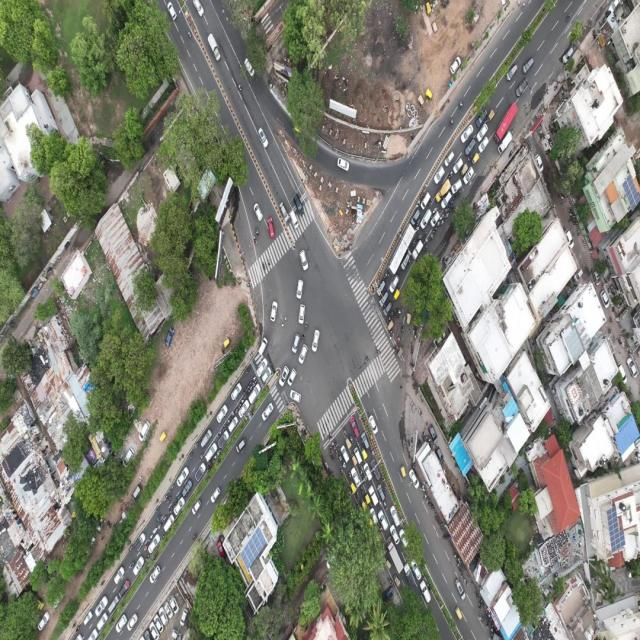3W: (455, 602, 464, 620), (400, 462, 407, 481), (158, 431, 168, 444), (416, 92, 424, 107), (222, 337, 231, 349), (383, 315, 391, 328), (348, 479, 355, 493), (424, 88, 432, 100), (392, 290, 400, 302), (486, 109, 494, 121), (460, 162, 467, 175), (359, 497, 365, 511), (349, 453, 356, 465), (363, 490, 369, 503), (360, 446, 366, 459), (344, 434, 349, 448), (471, 152, 478, 162)
Bus: (385, 221, 411, 271), (494, 101, 520, 141)
Cars: (419, 574, 433, 602), (454, 578, 470, 600), (136, 421, 150, 444), (515, 78, 530, 98), (173, 496, 186, 519), (337, 153, 350, 175), (149, 565, 162, 587), (498, 131, 511, 153), (278, 365, 290, 388), (183, 481, 196, 502), (124, 449, 137, 470), (150, 536, 163, 556), (310, 329, 321, 352), (109, 576, 121, 597), (164, 515, 176, 536), (448, 53, 460, 74), (459, 124, 473, 142), (261, 402, 274, 421), (266, 214, 277, 236), (257, 127, 268, 149), (193, 465, 205, 485), (133, 557, 145, 577), (432, 164, 444, 184), (418, 189, 430, 209), (230, 382, 242, 402), (408, 470, 420, 490), (410, 238, 422, 258), (216, 403, 228, 423), (504, 64, 516, 84), (522, 54, 534, 74), (439, 190, 452, 208), (410, 558, 421, 579), (348, 413, 358, 436), (294, 192, 304, 215), (177, 467, 189, 486), (205, 444, 217, 463), (248, 386, 260, 405), (388, 273, 400, 292), (91, 603, 103, 622), (462, 165, 474, 184), (164, 327, 174, 349), (119, 580, 130, 600), (388, 501, 398, 523), (369, 457, 379, 479), (279, 202, 289, 224), (260, 334, 270, 356), (107, 598, 119, 616), (134, 532, 146, 550), (240, 403, 252, 421), (476, 136, 488, 154), (115, 614, 127, 632), (349, 464, 359, 485), (400, 249, 410, 270), (245, 56, 255, 77), (132, 485, 143, 504), (409, 206, 420, 225), (257, 358, 268, 377), (560, 45, 572, 62), (421, 210, 431, 230), (298, 345, 308, 365), (192, 497, 202, 517), (127, 614, 138, 632), (475, 124, 487, 140), (290, 334, 300, 353), (297, 303, 306, 324), (300, 249, 309, 270), (270, 301, 279, 321), (95, 616, 105, 634), (377, 507, 386, 527), (202, 429, 212, 447), (212, 486, 222, 504), (236, 438, 246, 456), (288, 366, 297, 386), (443, 151, 454, 167), (254, 200, 262, 222), (290, 388, 301, 404), (464, 138, 475, 154), (338, 443, 347, 462), (219, 434, 230, 449), (451, 180, 462, 195), (376, 483, 385, 501), (362, 460, 371, 478), (296, 278, 304, 298), (452, 159, 462, 175), (476, 110, 486, 126), (380, 295, 389, 312), (290, 208, 298, 227), (260, 368, 270, 383), (230, 420, 240, 435), (430, 210, 439, 226), (368, 508, 377, 523), (372, 278, 381, 293), (376, 288, 384, 304), (360, 430, 367, 448), (399, 526, 406, 542)
LCV: (435, 176, 451, 200), (366, 482, 377, 504), (351, 446, 360, 461)
M2W: (459, 97, 465, 113), (252, 234, 258, 247), (192, 530, 198, 543), (449, 116, 455, 128), (162, 513, 168, 524), (238, 83, 244, 94), (427, 193, 432, 205), (443, 165, 449, 175), (153, 508, 159, 518), (300, 332, 306, 342), (391, 335, 397, 344), (103, 583, 109, 592), (126, 553, 132, 562), (127, 566, 133, 575), (268, 257, 272, 270), (241, 400, 246, 410), (328, 438, 333, 448), (382, 501, 387, 511), (358, 482, 363, 492), (254, 382, 260, 390), (154, 529, 160, 537), (168, 506, 174, 514), (340, 424, 345, 433), (429, 233, 434, 242), (386, 329, 391, 338), (432, 224, 437, 233), (304, 320, 309, 329), (163, 493, 168, 502), (232, 411, 238, 418), (169, 484, 175, 491), (253, 378, 258, 386), (148, 539, 152, 549), (173, 498, 178, 506), (217, 432, 222, 440), (340, 458, 344, 468), (444, 212, 449, 220), (256, 226, 260, 236), (194, 440, 198, 450), (250, 387, 254, 396), (227, 420, 231, 429), (248, 383, 254, 389), (332, 436, 336, 445), (187, 28, 190, 40), (200, 452, 204, 461), (247, 367, 252, 374), (411, 239, 416, 246), (158, 523, 163, 530), (126, 549, 131, 556), (250, 375, 255, 382), (457, 193, 462, 200), (415, 224, 419, 232), (335, 451, 339, 459), (112, 574, 116, 582), (449, 200, 453, 208), (156, 514, 160, 522), (342, 466, 345, 476), (118, 562, 121, 572), (435, 222, 440, 228), (262, 261, 265, 271), (416, 233, 420, 240), (237, 409, 241, 416), (223, 426, 227, 433), (178, 492, 182, 499), (346, 469, 350, 476), (439, 214, 443, 221), (167, 496, 171, 503), (242, 390, 245, 399), (390, 310, 395, 315), (385, 326, 390, 331), (246, 389, 249, 397), (386, 307, 390, 313), (440, 220, 444, 226), (188, 452, 192, 458), (383, 314, 387, 319), (229, 416, 232, 421)
MAV: (207, 33, 221, 61)
Truck: (387, 537, 403, 573)
